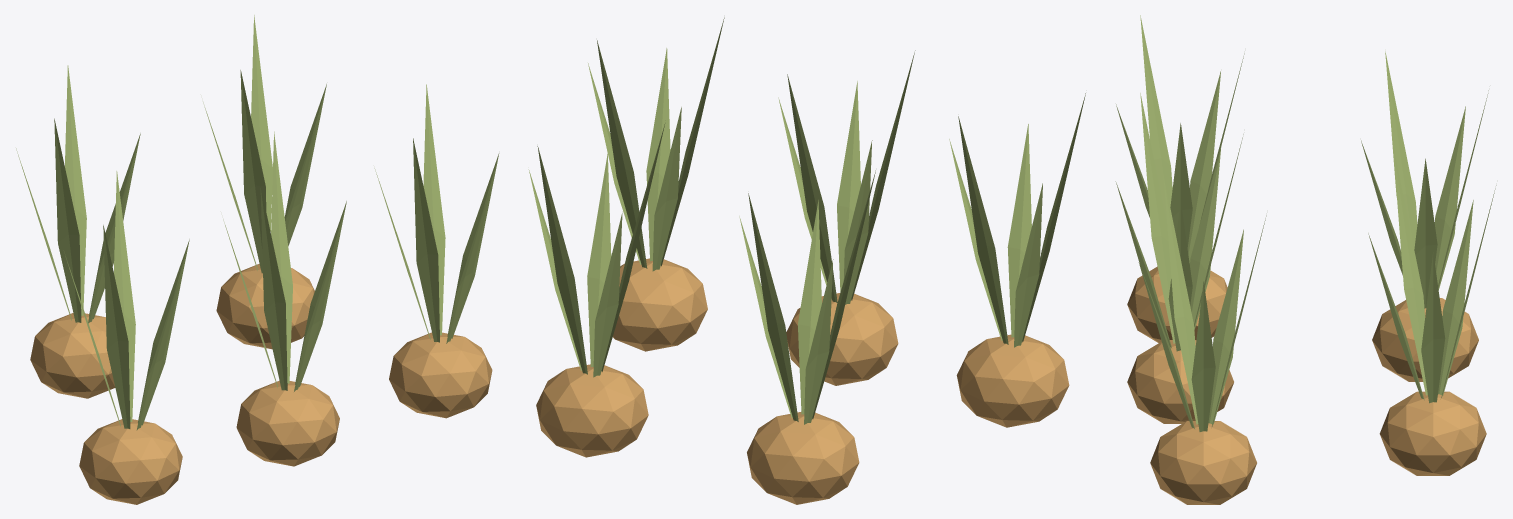
3 views of the same model, side by side, from view 1: azimuth 30°, elevation 25°; view 2: azimuth 150°, elevation 25°; view 3: azimuth 270°, elevation 25° (orthographic). The views are drawn at different scales.
Visible parts, largest first — view 1: GF-004 Onion crop patch batched; view 2: GF-004 Onion crop patch batched; view 3: GF-004 Onion crop patch batched.
Part boxes in pixels (box(x1,y1,x2,y2)): GF-004 Onion crop patch batched: box(16, 15, 499, 504); GF-004 Onion crop patch batched: box(528, 17, 1085, 504); GF-004 Onion crop patch batched: box(1115, 15, 1496, 504).
Bounding box in the file's own units: 0.6528 × 0.44 × 0.5012.
